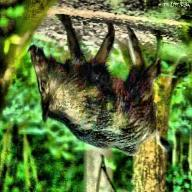boar: (26, 22, 188, 156)
